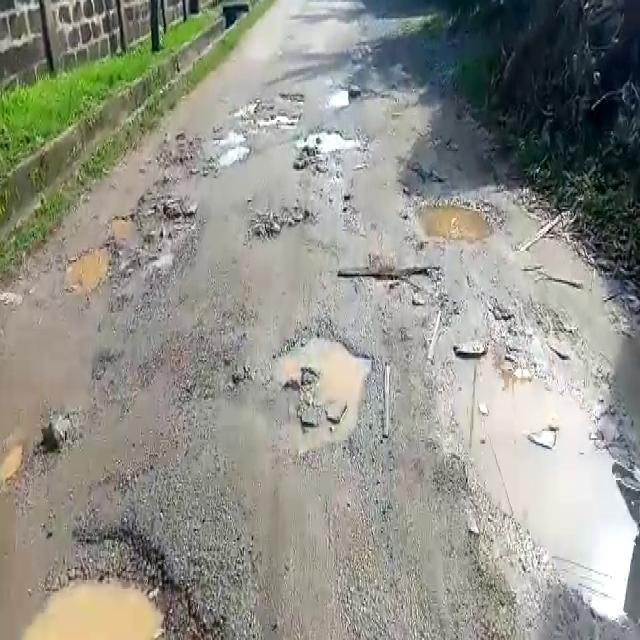Pothole: (26, 522, 228, 640), (273, 325, 378, 450), (111, 184, 196, 272), (414, 189, 506, 246), (337, 260, 449, 306), (169, 344, 241, 402), (292, 128, 366, 168), (63, 240, 113, 298), (251, 203, 316, 236), (209, 138, 252, 169)
